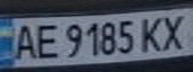1: (81, 19, 103, 56)
5: (115, 16, 139, 55)
8: (96, 18, 121, 56)
9: (60, 20, 84, 58)
A: (6, 21, 39, 61)
E: (30, 20, 60, 61)
K: (136, 14, 169, 53)
X: (157, 11, 193, 51)
